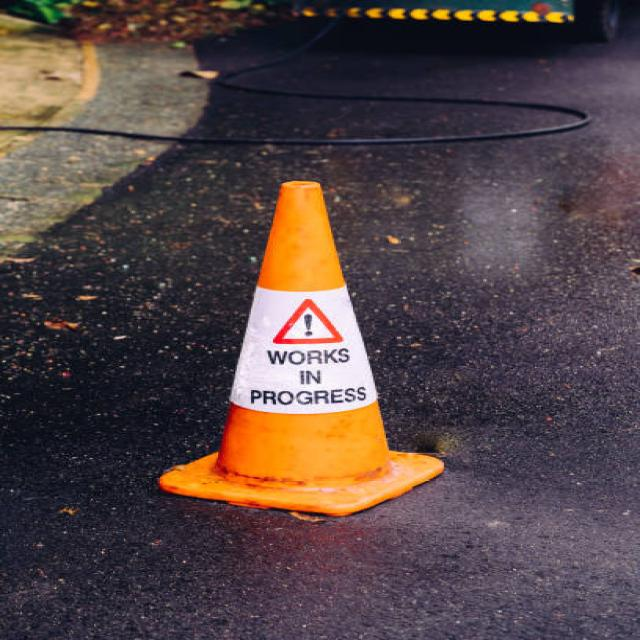Traffic Cone: (97, 96, 512, 572)
